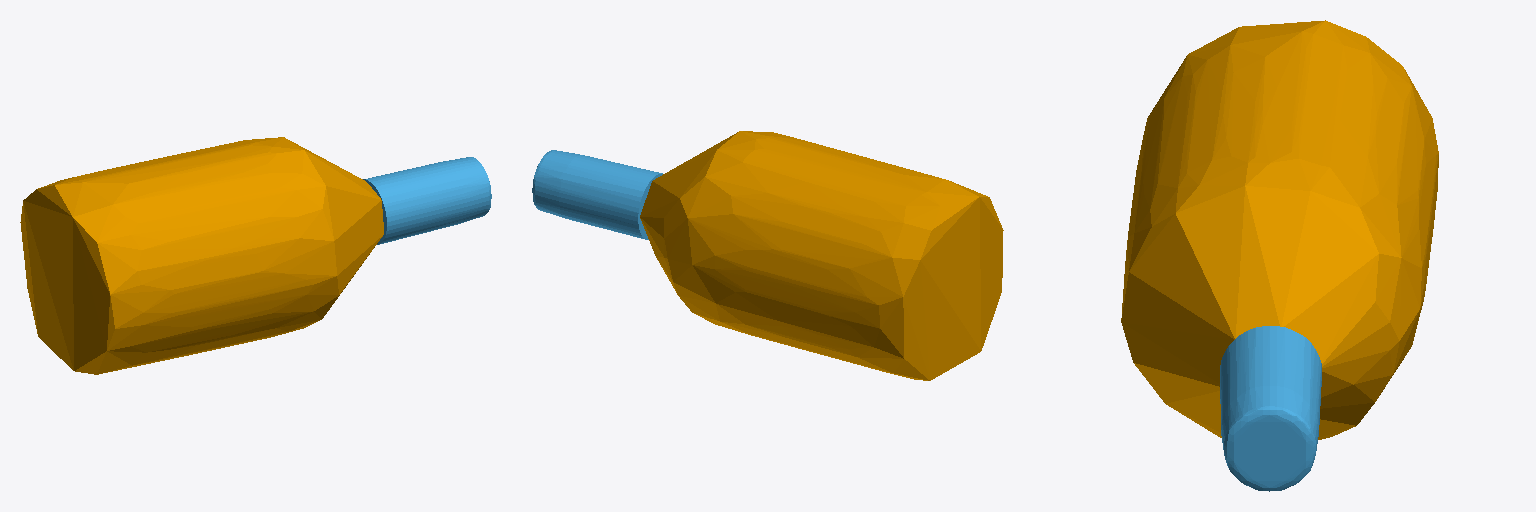
URDF robot description (root):
<robot name="root">
  <link name="link_convex_piece_001.obj">
    <inertial>
      <origin xyz="0 0 0" rpy="0 0 0"/>
    </inertial>
    <visual>
      <origin xyz="0 0 0" rpy="0 0 0"/>
      <geometry>
        <mesh filename="meshes/convex_piece_001.obj" scale="1.0 1.0 1.0"/>
      </geometry>
    </visual>
    <collision>
      <origin xyz="0 0 0" rpy="0 0 0"/>
      <geometry>
        <mesh filename="meshes/convex_piece_001.obj" scale="1.0 1.0 1.0"/>
      </geometry>
    </collision>
  </link>
  <link name="link_convex_piece_000.obj">
    <inertial>
      <origin xyz="0 0 0" rpy="0 0 0"/>
    </inertial>
    <visual>
      <origin xyz="0 0 0" rpy="0 0 0"/>
      <geometry>
        <mesh filename="meshes/convex_piece_000.obj" scale="1.0 1.0 1.0"/>
      </geometry>
    </visual>
    <collision>
      <origin xyz="0 0 0" rpy="0 0 0"/>
      <geometry>
        <mesh filename="meshes/convex_piece_000.obj" scale="1.0 1.0 1.0"/>
      </geometry>
    </collision>
  </link>
  <joint name="link_convex_piece_000.obj_joint" type="fixed">
    <origin xyz="0 0 0" rpy="0 0 0"/>
    <parent link="link_convex_piece_001.obj"/>
    <child link="link_convex_piece_000.obj"/>
  </joint>
</robot>

--- Facts derived from the render (not from the file) ---
The picture shows the robot from 3 angles, left to right: view 1: azimuth 30°, elevation 25°; view 2: azimuth 150°, elevation 25°; view 3: azimuth 270°, elevation 25°; orthographic projection.
Model root with 2 links and 1 joints (1 fixed), rooted at link_convex_piece_001.obj, posed all joints at 0.
Links seen in each view (by area): view 1: link_convex_piece_001.obj, link_convex_piece_000.obj; view 2: link_convex_piece_001.obj, link_convex_piece_000.obj; view 3: link_convex_piece_001.obj, link_convex_piece_000.obj.
Boxes of the visible links, x1,y1,x2,y2 form: link_convex_piece_001.obj: (20,137,383,374); link_convex_piece_000.obj: (363,157,491,244); link_convex_piece_001.obj: (640,131,1003,380); link_convex_piece_000.obj: (532,150,662,239); link_convex_piece_001.obj: (1121,20,1438,439); link_convex_piece_000.obj: (1220,326,1321,491).
Bounding box of the posed robot: 1.72 × 0.7523 × 0.7118 m (x, y, z).
Meshes: 2 distinct files referenced, 2 mesh visuals loaded (2 OBJ).